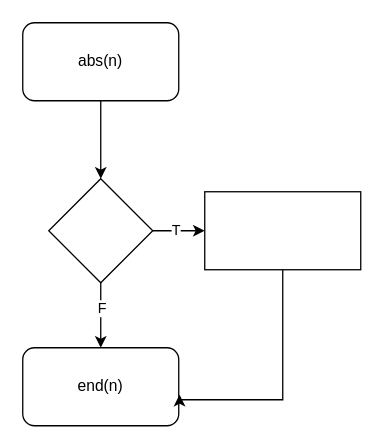
The diagram is 384 pixels wide and 448 high, and some of its shapes have lost their labels. The shapes that lost their labels are listed below. From the top down, each one's box as (x1, y1, x2, y2) in pixels, then its label:
(47, 177, 153, 283): n < 0
(203, 190, 361, 270): n = n * (-1)
